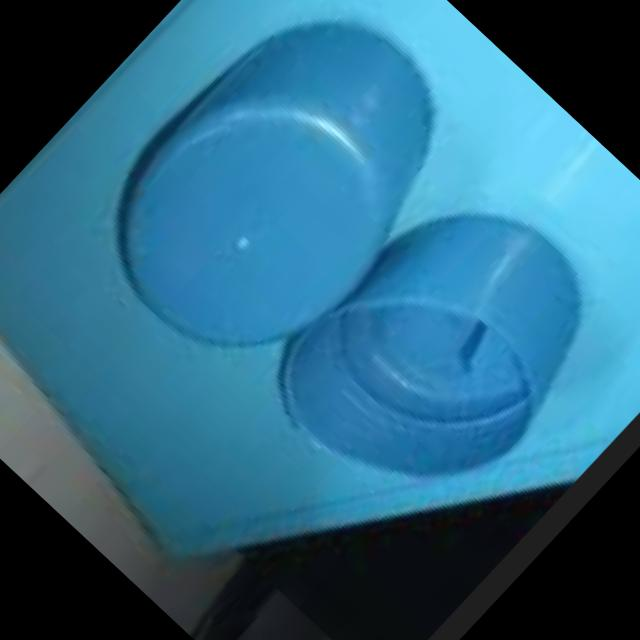TutupGalon: (65, 0, 640, 558)
